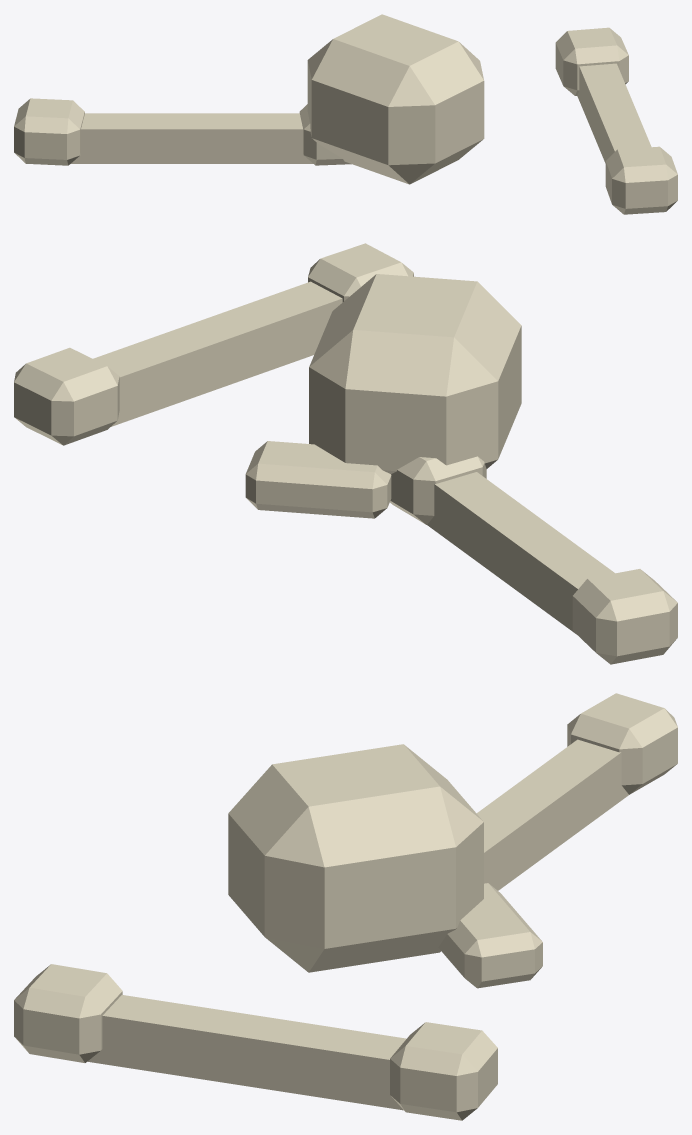
Rendered from Bones.fbx.
3 views of the same model, one above another, from view 1: azimuth 30°, elevation 25°; view 2: azimuth 150°, elevation 25°; view 3: azimuth 270°, elevation 25° (orthographic). The views are drawn at different scales.
Parts seen in each view (by area): view 1: Bone; view 2: Bone; view 3: Bone.
Part boxes in pixels (<box>): Bone: <box>14,14,677,214</box>; Bone: <box>14,243,677,664</box>; Bone: <box>14,693,677,1120</box>.
Size of the model in its own units: 2.65 by 0.575 by 1.99.
